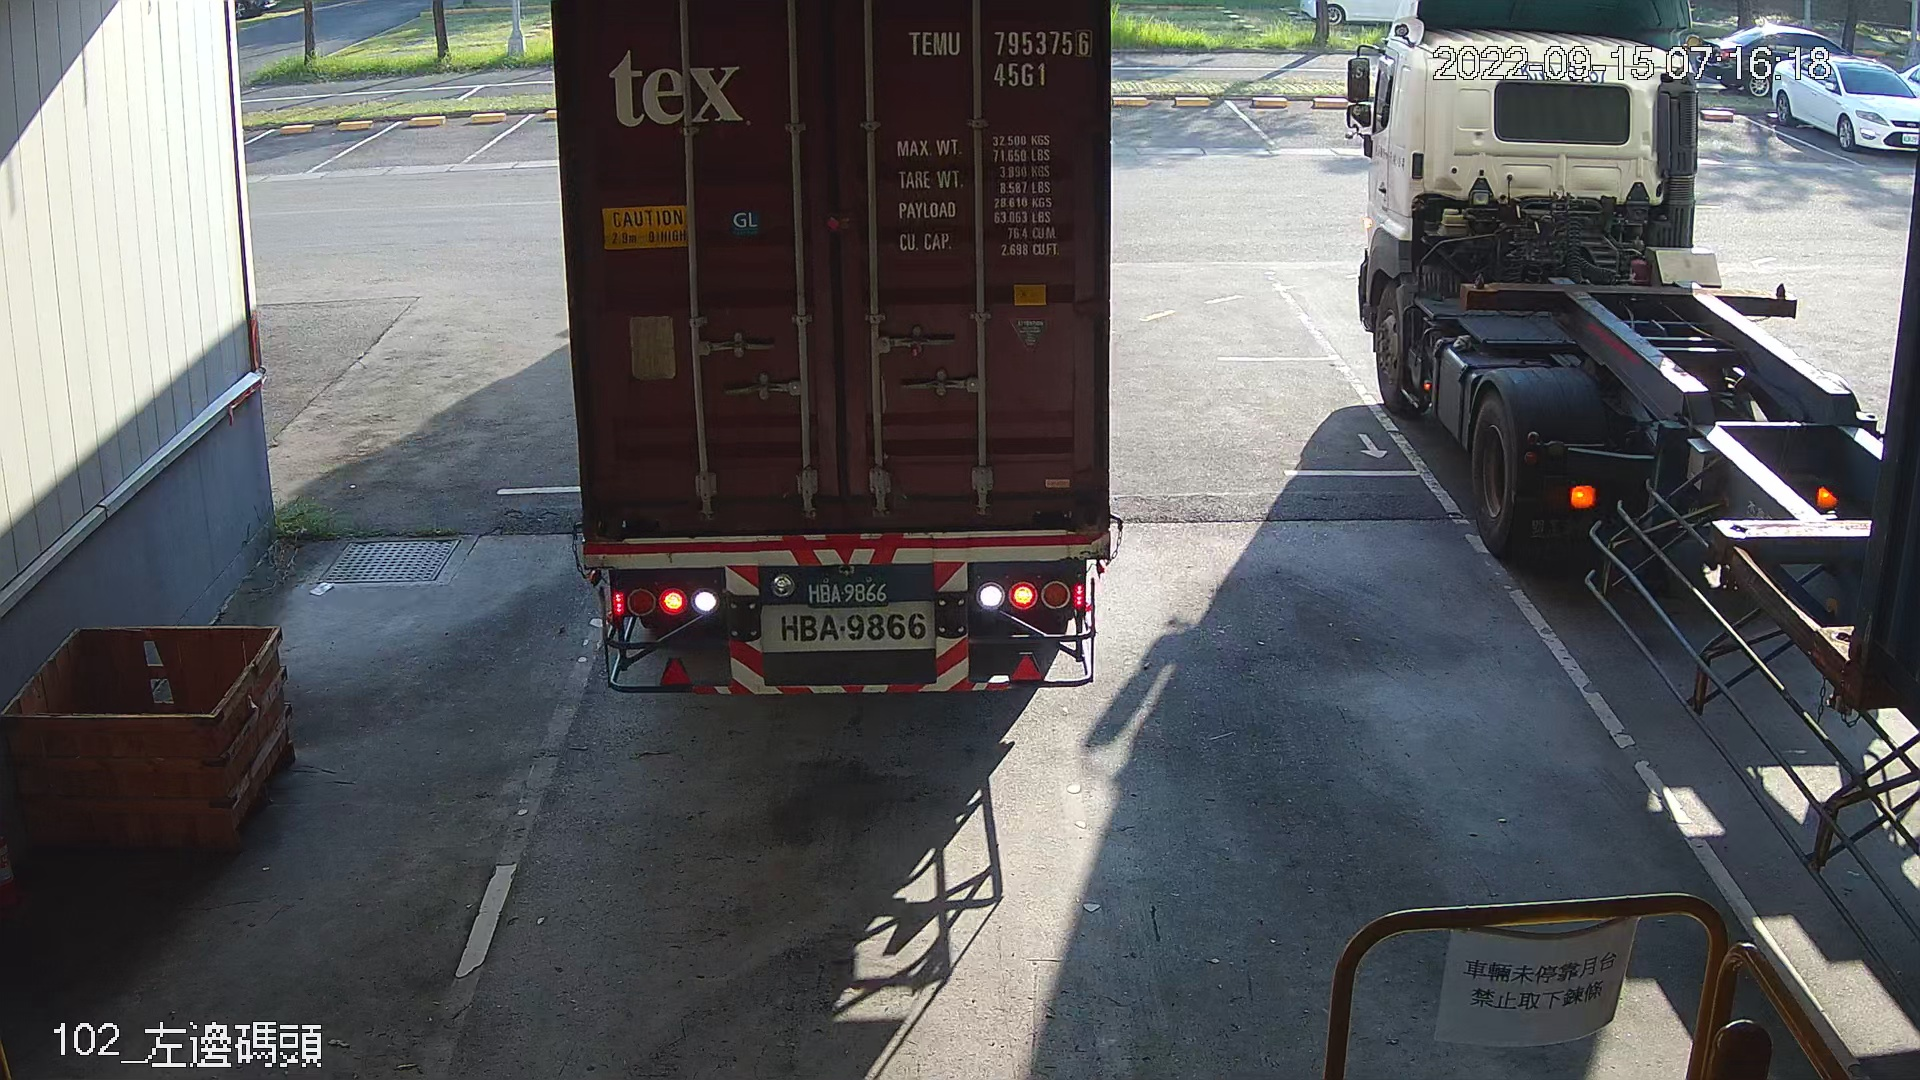container: (891, 17, 1102, 98)
